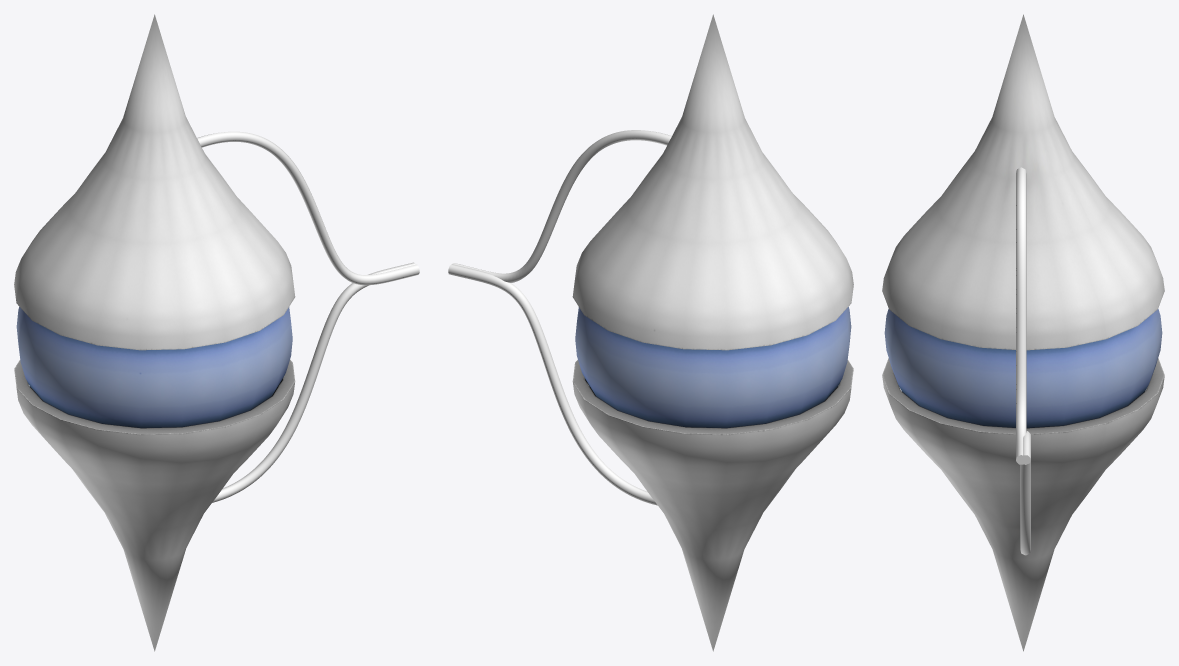
The model's file is Lampe_Mural.fbx.
3 renders of one model, left to right at view 1: azimuth 30°, elevation 25°; view 2: azimuth 150°, elevation 25°; view 3: azimuth 270°, elevation 25°, orthographic.
Visible parts, largest first — view 1: Lampe_Murale; view 2: Lampe_Murale; view 3: Lampe_Murale.
Part boxes in pixels (x1,y1,x2,y2): Lampe_Murale: (14, 14, 419, 651); Lampe_Murale: (448, 14, 853, 651); Lampe_Murale: (882, 14, 1164, 651).
Bounding box in the file's own units: 14.13 × 22.45 × 9.02.
Materials: 1 (1 with a texture image).
